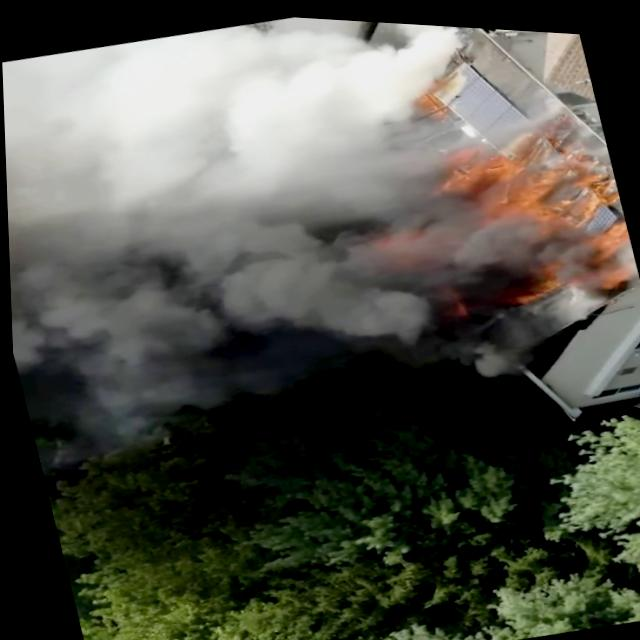fire: (365, 120, 595, 292)
smoke: (0, 0, 413, 316), (4, 133, 298, 435)
